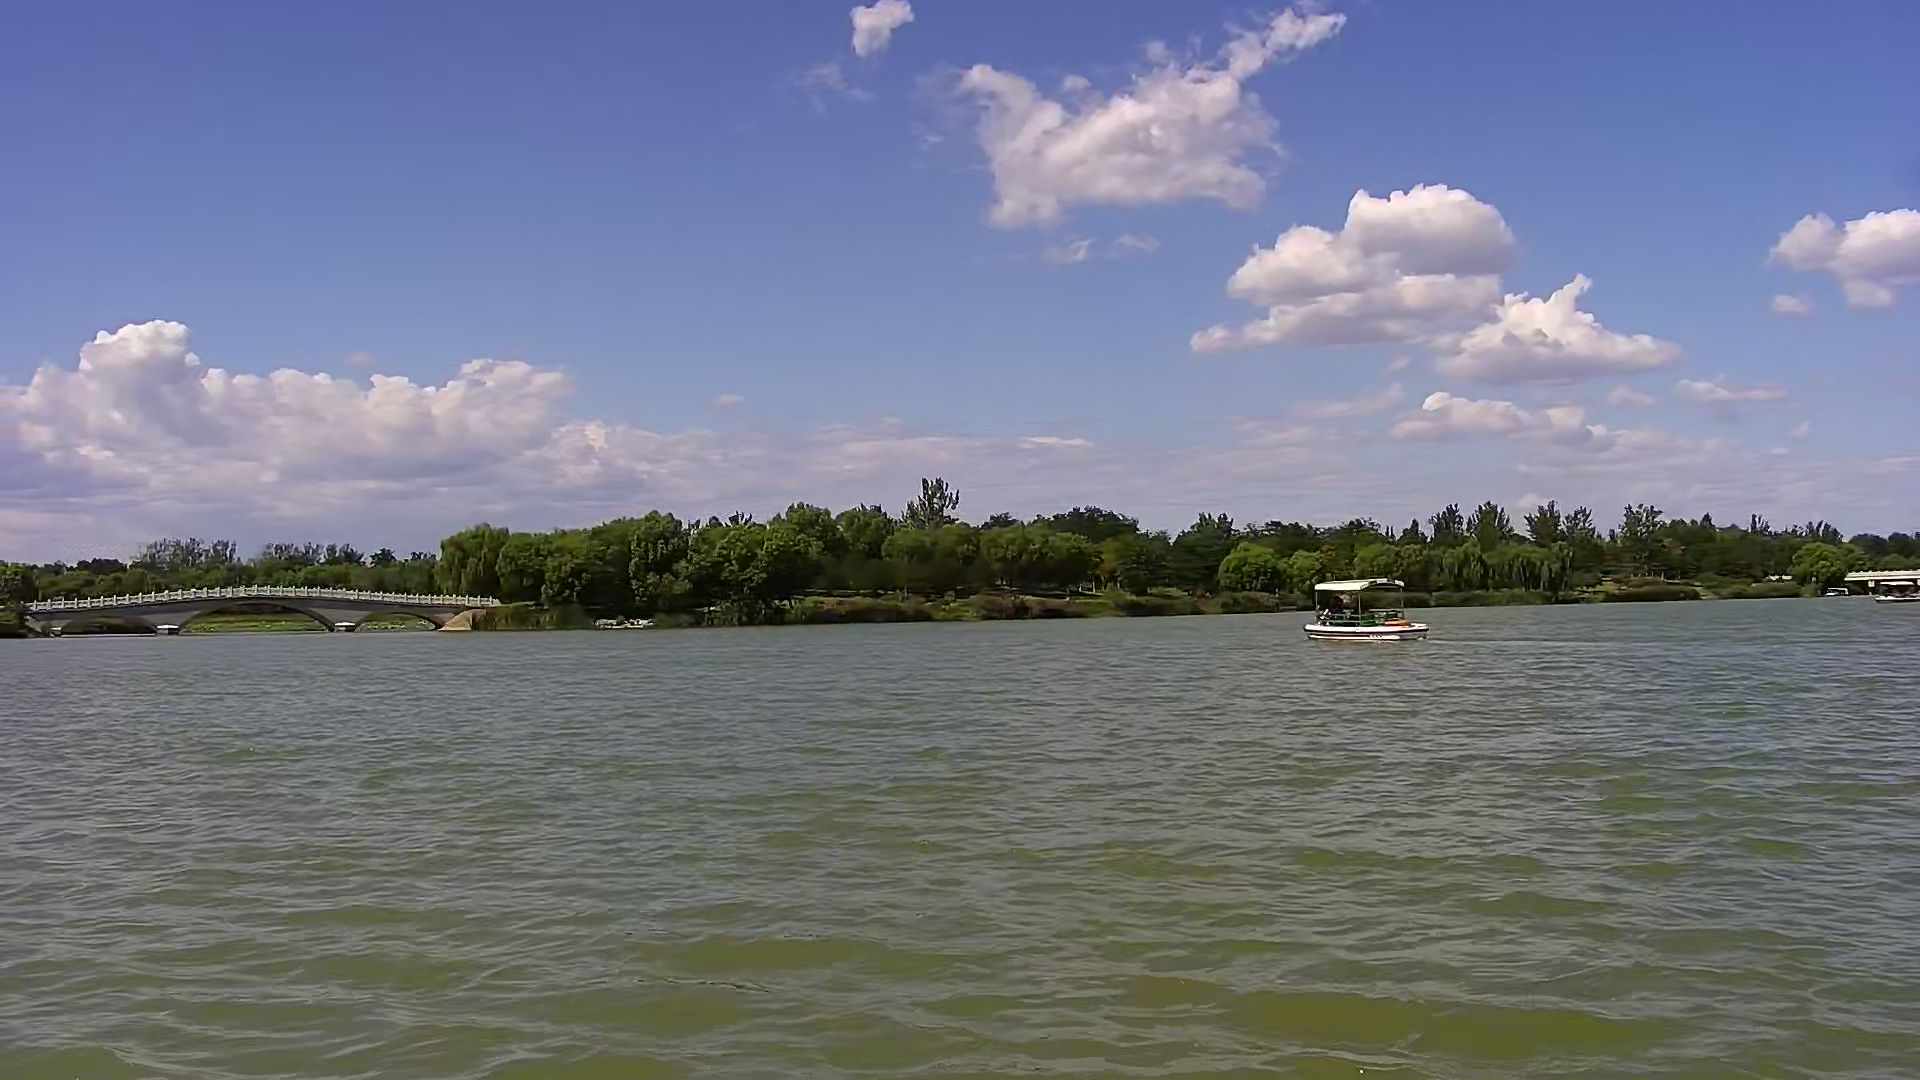boat: (1303, 574, 1425, 646)
bridge: (21, 593, 473, 641), (1845, 568, 1913, 589)
